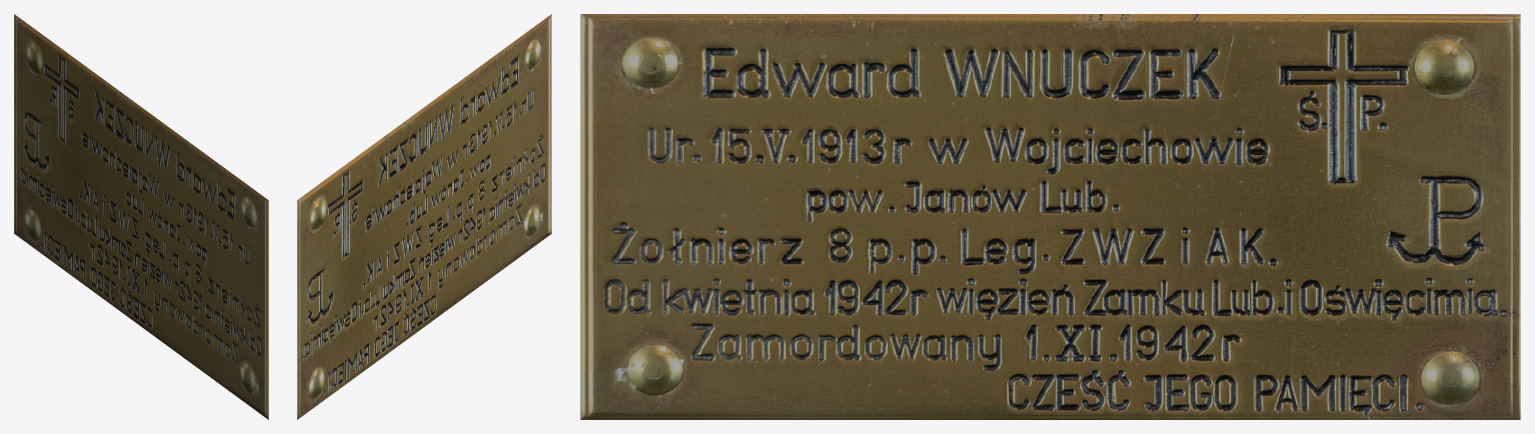
File: 10. Wnuczek Edward.glb
3 renders of one model, left to right at view 1: azimuth 30°, elevation 25°; view 2: azimuth 150°, elevation 25°; view 3: azimuth 270°, elevation 25°, orthographic. The views are drawn at different scales.
Visible parts, largest first — view 1: Plane; view 2: Plane; view 3: Plane.
Boxes of the visible parts, x1,y1,x2,y2 form: Plane: (14,14,268,419); Plane: (297,14,551,419); Plane: (580,14,1520,419).
Size of the model in its own units: 0.0246 by 6.9 by 14.5.
1 material, 1 textured.
